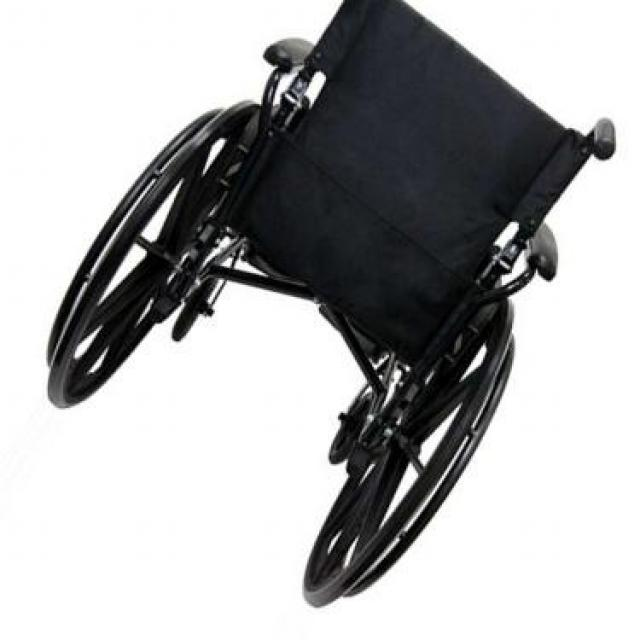wheelchair: (31, 0, 640, 611)
